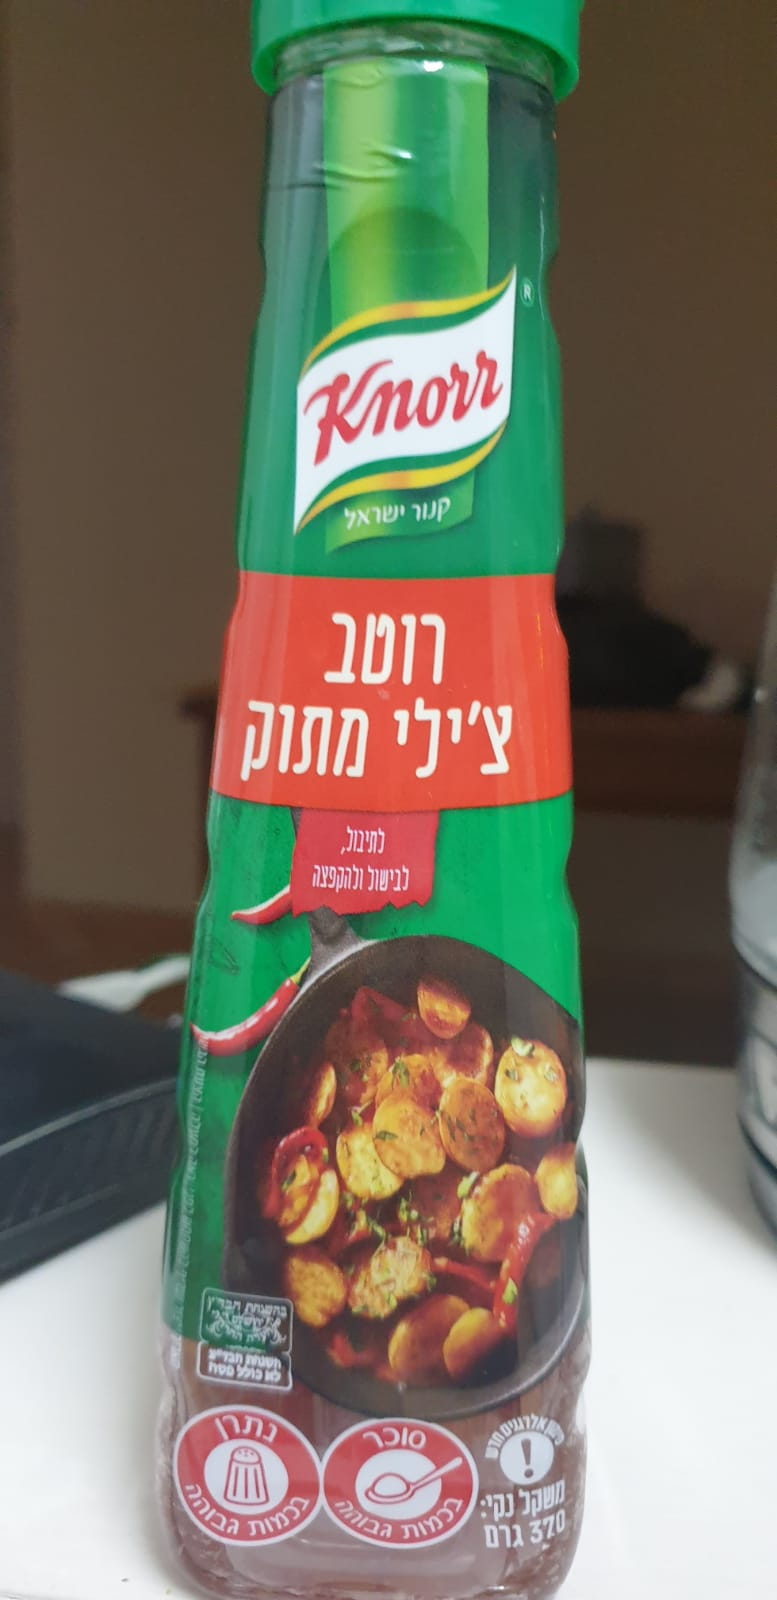salt: (169, 1405, 325, 1548)
sugar: (319, 1416, 477, 1548)
